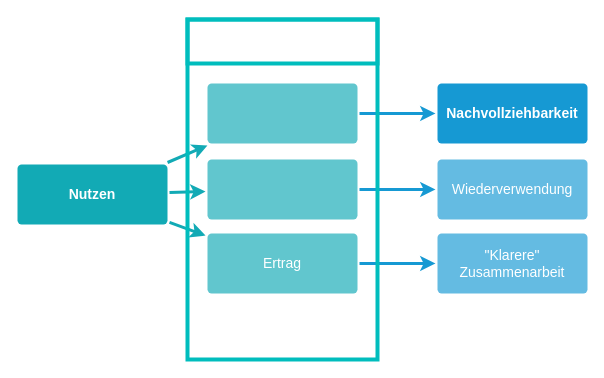
The diagram is 604 pixels wide and 378 high, and some of its shapes have lost their labels. Here are the shapes that lost their labels. From the top down, the centre of each, then its label:
At point 282,41: "Generische Definition von Nutzen als Vorteil, Gewinn, Ertrag".
At point 282,113: "Vorteil".
At point 282,189: "Gewinn".
